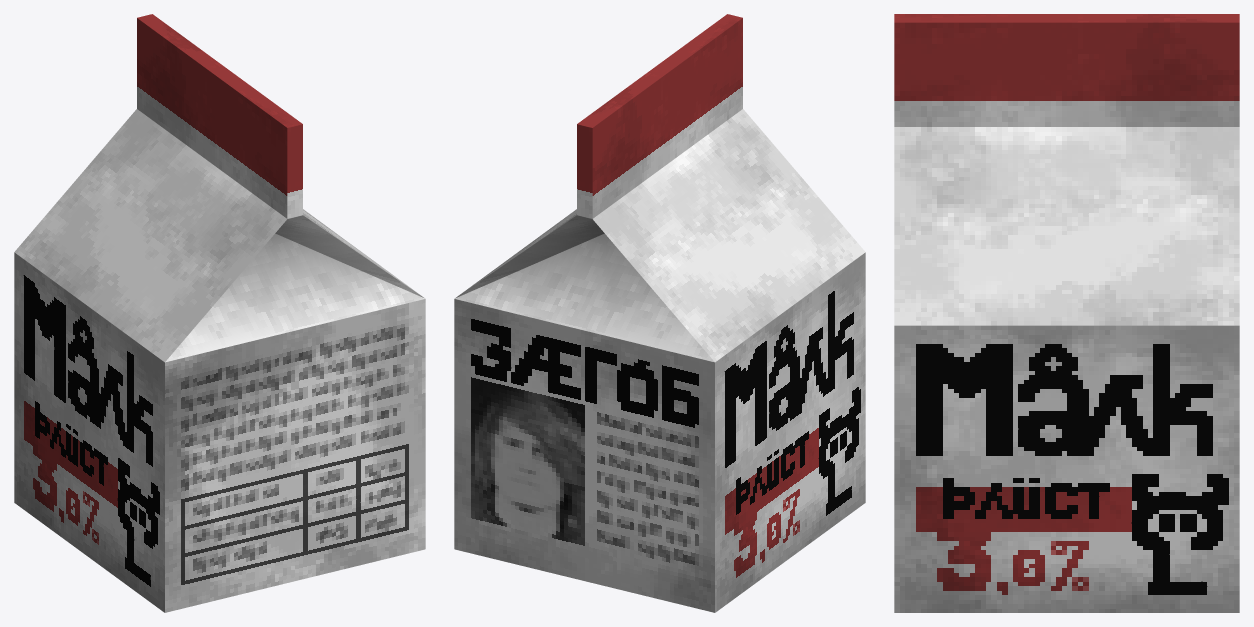
File: malk.glb
3 views of the same model, side by side, from view 1: azimuth 30°, elevation 25°; view 2: azimuth 150°, elevation 25°; view 3: azimuth 270°, elevation 25° (orthographic). The views are drawn at different scales.
Parts seen in each view (by area): view 1: Cube; view 2: Cube; view 3: Cube.
Part boxes in pixels (x1,y1,x2,y2): Cube: (14, 14, 425, 612); Cube: (454, 14, 865, 612); Cube: (894, 14, 1239, 612).
Bounding box in the file's own units: 0.6 × 1 × 0.6.
Materials: 1 (1 with a texture image).
